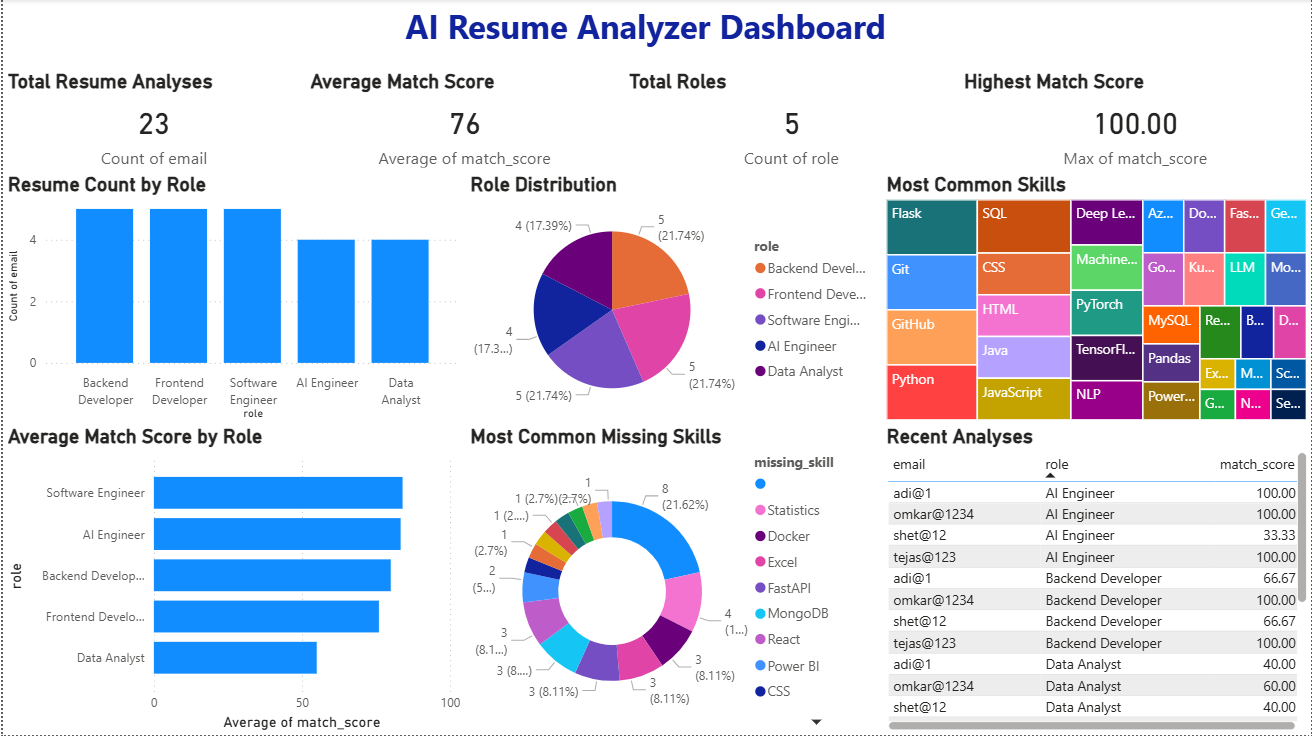

The page's visual inventory and layout, read from the dashboard file:
{"tool":"powerbi","page":{"name":"Page 1","canvas":[1280,720],"ordinal":0},"visuals":[{"type":"card","title":"Total Resume Analyses","fields":{"Values":["CountNonNull(resume_history_clean.email)"]},"box":[0,69.7,295.9,100.3],"z":0},{"type":"card","title":"Average Match Score","fields":{"Values":["Avg(resume_history_clean.match_score)"]},"box":[295.9,69.7,311.8,100.3],"z":1},{"type":"clusteredColumnChart","title":"Resume Count by Role","fields":{"Category":["resume_history_clean.role"],"Y":["CountNonNull(resume_history_clean.email)"]},"box":[0,170,452.4,247],"z":2},{"type":"pieChart","title":"Role Distribution","fields":{"Category":["resume_history_clean.role"],"Y":["CountNonNull(resume_history_clean.email)"]},"box":[452.4,170,407.2,247],"z":3},{"type":"barChart","title":"Average Match Score by Role","fields":{"Category":["resume_history_clean.role"],"Y":["Avg(resume_history_clean.match_score)"]},"box":[0,417,452.4,303.3],"z":4},{"type":"tableEx","title":"Recent Analyses","fields":{"Values":["resume_history_clean.email","resume_history_clean.role","resume_history_clean.match_score"]},"box":[859.7,417,420.7,303.3],"z":5},{"type":"card","title":"Total Roles","fields":{"Values":["Count(resume_history_clean.role)"]},"box":[607.7,69.7,327.7,100.3],"z":6},{"type":"card","title":"Highest Match Score","fields":{"Values":["Max(resume_history_clean.match_score)"]},"box":[935.5,69.7,344.8,100.3],"z":7},{"type":"textbox","box":[0,0,1280.3,69.7],"z":8},{"type":"treemap","title":"Most Common Skills","fields":{"Group":["SkillsExploded.skill"],"Values":["CountNonNull(SkillsExploded.skill)"]},"box":[859.7,170,420.7,247],"z":9},{"type":"donutChart","title":"Most Common Missing Skills","fields":{"Category":["MissingSkillsExploded.missing_skill"],"Y":["CountNonNull(MissingSkillsExploded.missing_skill)"]},"box":[452.4,417,407.2,303.3],"z":10}]}

Visuals, with their boxes in screenshot pixels (x1, y1, x2, y2), scaled from the page's 1280x720 canvas onto the 1312x737 screenshot:
"Total Resume Analyses" card: region(0, 71, 303, 174)
"Average Match Score" card: region(303, 71, 623, 174)
"Resume Count by Role" clusteredColumnChart: region(0, 174, 464, 427)
"Role Distribution" pieChart: region(464, 174, 881, 427)
"Average Match Score by Role" barChart: region(0, 427, 464, 736)
"Recent Analyses" tableEx: region(881, 427, 1311, 736)
"Total Roles" card: region(623, 71, 959, 174)
"Highest Match Score" card: region(959, 71, 1311, 174)
textbox: region(0, 0, 1311, 71)
"Most Common Skills" treemap: region(881, 174, 1311, 427)
"Most Common Missing Skills" donutChart: region(464, 427, 881, 736)
